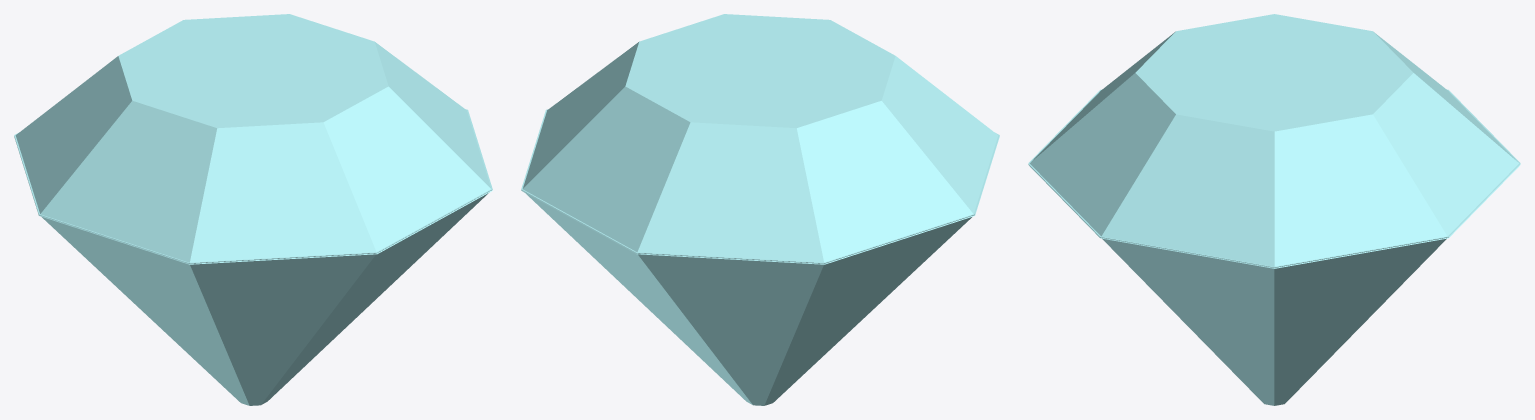
Rendered from CutDiamond.fbx.
3 renders of one model, left to right at view 1: azimuth 30°, elevation 25°; view 2: azimuth 150°, elevation 25°; view 3: azimuth 270°, elevation 25°, orthographic.
Visible parts, largest first — view 1: MainMesh; view 2: MainMesh; view 3: MainMesh.
Boxes of the visible parts, left/top/right/bottom form: MainMesh: left=14, top=14, right=492, bottom=405; MainMesh: left=521, top=14, right=999, bottom=405; MainMesh: left=1028, top=14, right=1520, bottom=405.
Bounding box in the file's own units: 1.7 × 1.25 × 1.7.
